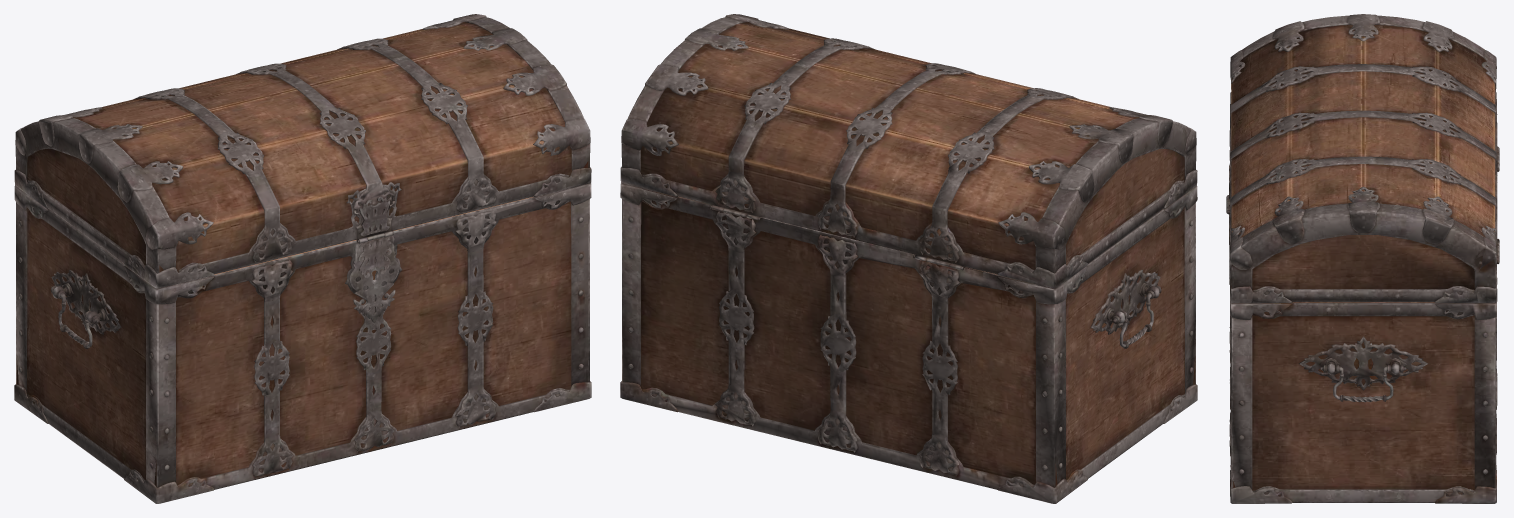
The model's file is treasure_chest.glb.
3 views of the same model, side by side, from view 1: azimuth 30°, elevation 25°; view 2: azimuth 150°, elevation 25°; view 3: azimuth 270°, elevation 25° (orthographic). The views are drawn at different scales.
Parts seen in each view (by area): view 1: treasure_chest_bottom, treasure_chest_lid, treasure_chest_lock, treasure_chest_handle_left; view 2: treasure_chest_bottom, treasure_chest_lid; view 3: treasure_chest_lid, treasure_chest_bottom, treasure_chest_handle_right.
Part boxes in pixels (x1=…): treasure_chest_bottom: x1=14, y1=183, x2=591, y2=503; treasure_chest_lid: x1=14, y1=14, x2=591, y2=288; treasure_chest_lock: x1=349, y1=233, x2=399, y2=322; treasure_chest_handle_left: x1=50, y1=285, x2=100, y2=348; treasure_chest_bottom: x1=620, y1=183, x2=1197, y2=503; treasure_chest_lid: x1=620, y1=14, x2=1197, y2=288; treasure_chest_lid: x1=1226, y1=14, x2=1499, y2=303; treasure_chest_bottom: x1=1229, y1=152, x2=1499, y2=503; treasure_chest_handle_right: x1=1320, y1=365, x2=1406, y2=402.
Size of the model in its own units: 0.959 by 0.6187 by 0.5223.
1 material, 1 textured.
